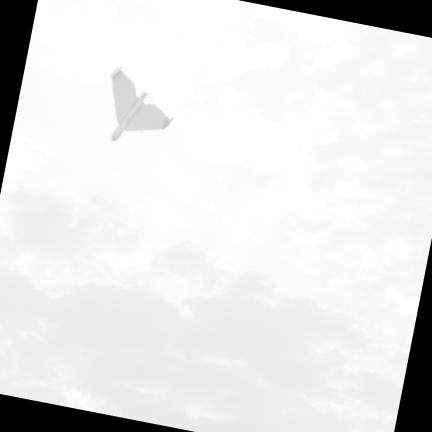Shahed: (109, 65, 174, 141)
